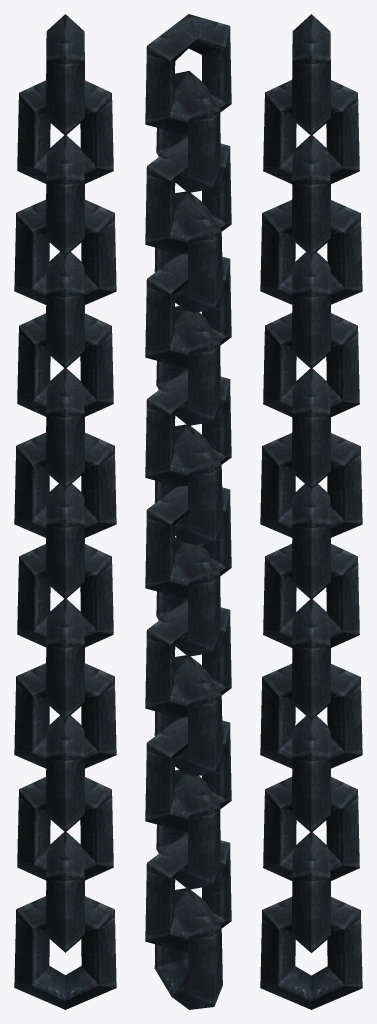
Rendered from 10507_Chain03.FBX.
3 renders of one model, left to right at view 1: azimuth 90°, elevation 25°; view 2: azimuth 210°, elevation 25°; view 3: azimuth 270°, elevation 25°, orthographic.
Parts seen in each view (by area): view 1: 10507_Chain03; view 2: 10507_Chain03; view 3: 10507_Chain03.
Boxes of the visible parts, box(x1,y1,x2,y2) form: 10507_Chain03: box(14, 14, 116, 1009); 10507_Chain03: box(145, 14, 231, 1009); 10507_Chain03: box(260, 14, 362, 1009).
Bounding box in the file's own units: 84.71 × 935 × 86.98.
